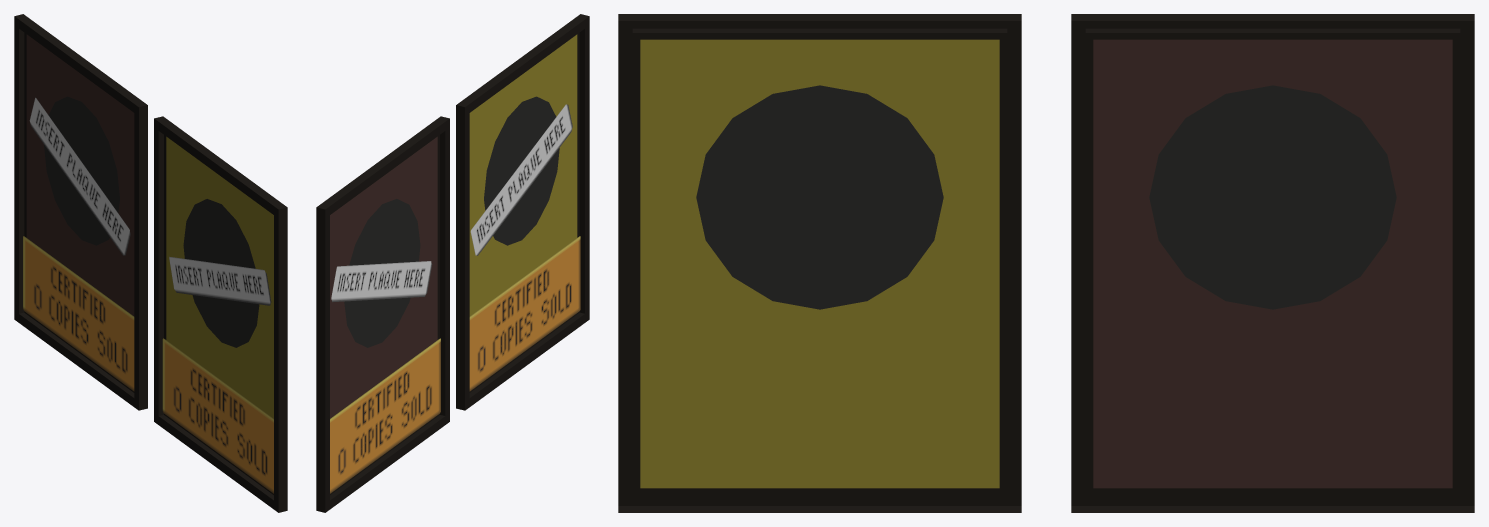
The model's file is Hacks Plaques.fbx.
3 renders of one model, left to right at view 1: azimuth 30°, elevation 25°; view 2: azimuth 150°, elevation 25°; view 3: azimuth 270°, elevation 25°, orthographic. The views are drawn at different scales.
Visible parts, largest first — view 1: Hacks Plaques; view 2: Hacks Plaques; view 3: Hacks Plaques.
Boxes of the visible parts, box(x1,y1,x2,y2) form: Hacks Plaques: box(14, 14, 287, 512); Hacks Plaques: box(316, 14, 589, 512); Hacks Plaques: box(618, 14, 1474, 512).
Size of the model in its own units: 0.063 by 2.04 by 3.21.
